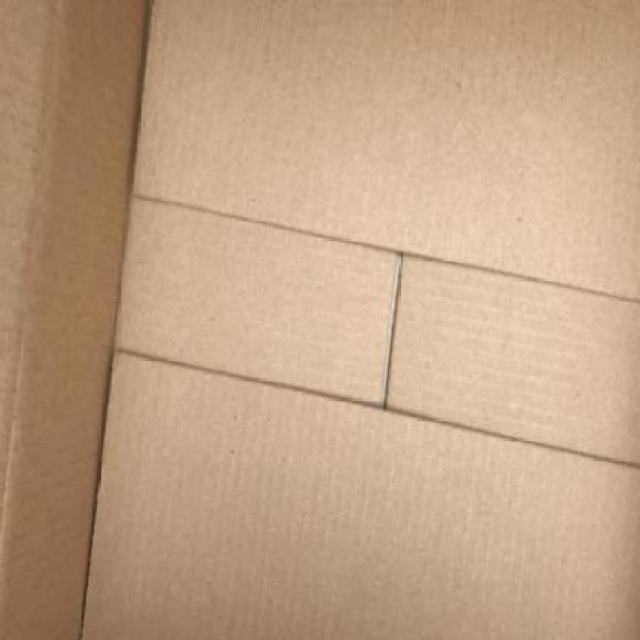CARDBOARD: (1, 1, 638, 638), (81, 356, 638, 638), (134, 2, 638, 304)
